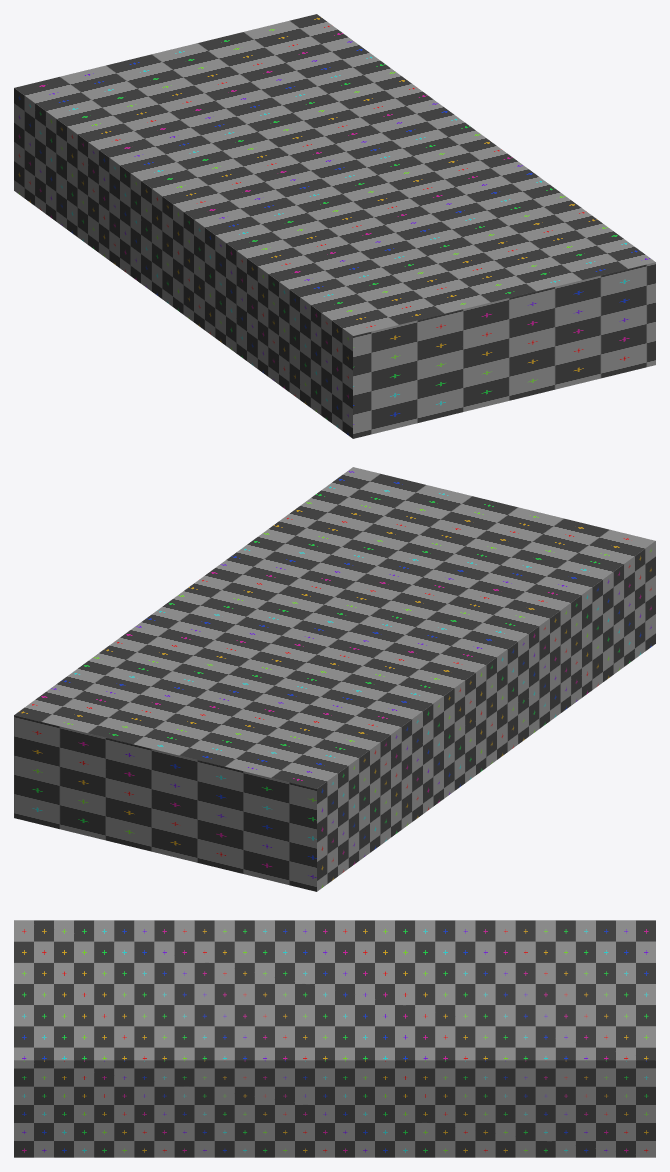
Rendered from scenario_prototype_interior_roof_right.fbx.
The picture shows the model from 3 angles, top to bottom: view 1: azimuth 30°, elevation 25°; view 2: azimuth 150°, elevation 25°; view 3: azimuth 270°, elevation 25°; orthographic projection. The views are drawn at different scales.
Parts seen in each view (by area): view 1: interior_roof_right; view 2: interior_roof_right; view 3: interior_roof_right.
Boxes of the visible parts, x1,y1,x2,y2 form: interior_roof_right: (14,14,655,438); interior_roof_right: (14,467,655,891); interior_roof_right: (14,920,655,1157).
Size of the model in its own units: 1850 by 600 by 3588.
